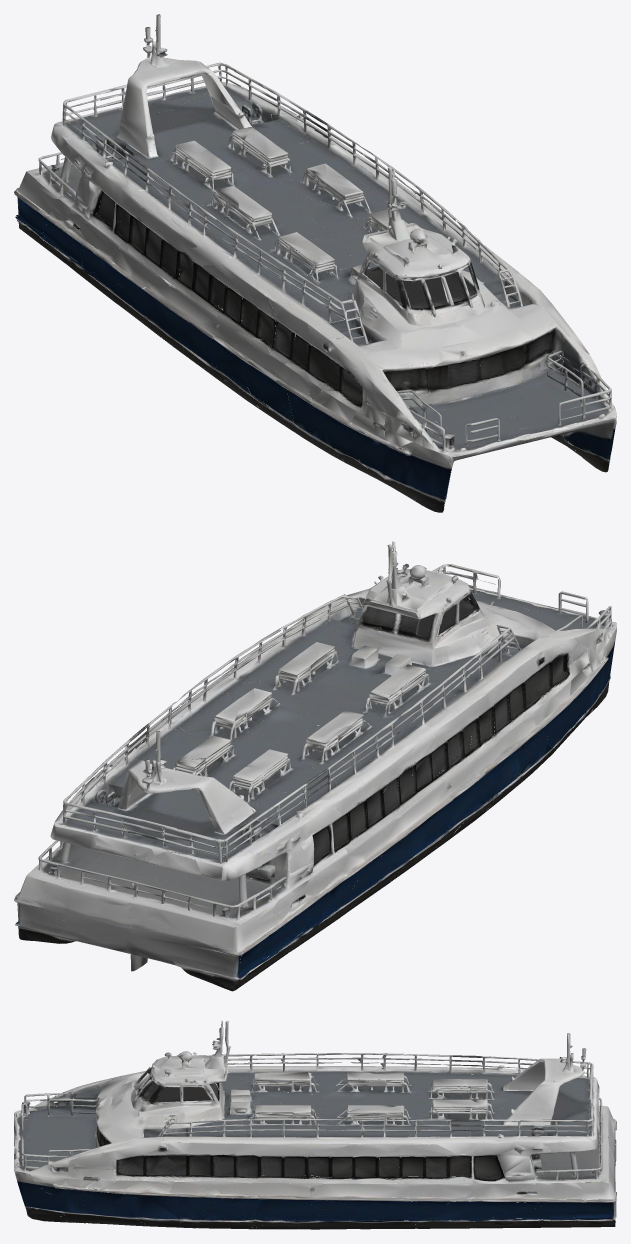
Rendered from h_ferry.glb.
The picture shows the model from 3 angles, top to bottom: view 1: azimuth 30°, elevation 25°; view 2: azimuth 150°, elevation 25°; view 3: azimuth 270°, elevation 25°; orthographic projection. The views are drawn at different scales.
Parts seen in each view (by area): view 1: tripo_node_1b661a4b-b0de-4c34-ab5a-2c31f19b0d56; view 2: tripo_node_1b661a4b-b0de-4c34-ab5a-2c31f19b0d56; view 3: tripo_node_1b661a4b-b0de-4c34-ab5a-2c31f19b0d56.
Boxes of the visible parts, box(x1,y1,x2,y2) form: tripo_node_1b661a4b-b0de-4c34-ab5a-2c31f19b0d56: box(14, 14, 616, 512); tripo_node_1b661a4b-b0de-4c34-ab5a-2c31f19b0d56: box(14, 541, 616, 991); tripo_node_1b661a4b-b0de-4c34-ab5a-2c31f19b0d56: box(14, 1020, 616, 1229).
Size of the model in its own units: 0.3331 by 0.3149 by 0.9818.
Materials: 1 (1 with a texture image).
